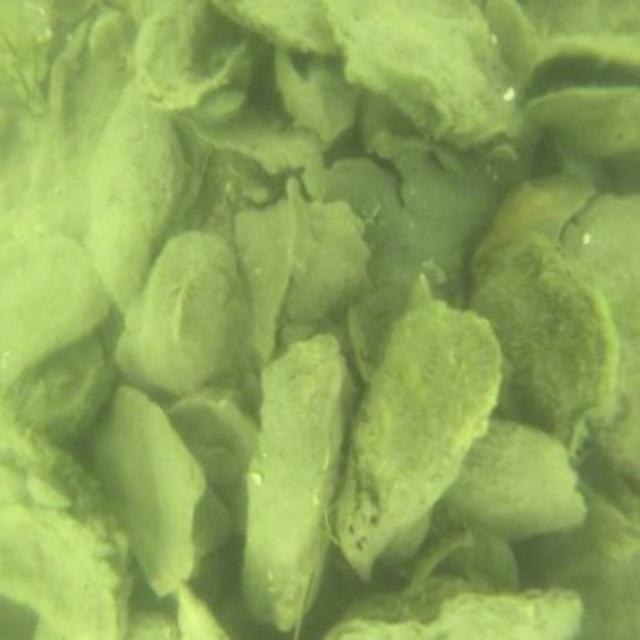Oyster-Closed: (338, 304, 503, 581), (473, 241, 618, 461), (240, 333, 346, 633), (0, 418, 132, 640), (322, 1, 519, 145), (85, 394, 215, 594), (112, 231, 255, 403), (86, 92, 187, 307), (0, 237, 111, 396), (450, 427, 589, 544), (0, 333, 115, 441), (206, 0, 338, 56)
Oyster-Open: (520, 36, 640, 154)
